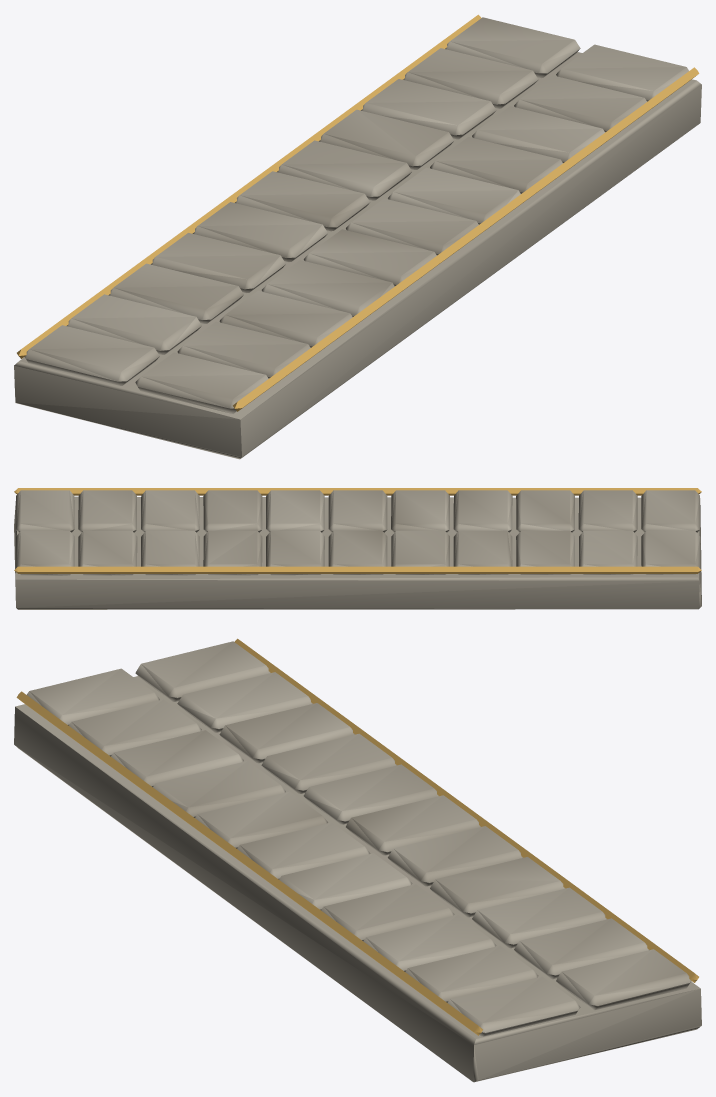
File: default_road_p30.glb
3 renders of one model, top to bottom at view 1: azimuth 30°, elevation 25°; view 2: azimuth 150°, elevation 25°; view 3: azimuth 270°, elevation 25°, orthographic. The views are drawn at different scales.
Visible parts, largest first — view 1: WoodBody, BrassTrim; view 2: WoodBody, BrassTrim; view 3: WoodBody, BrassTrim.
Boxes of the visible parts, x1,y1,x2,y2 form: WoodBody: (14, 17, 701, 459); BrassTrim: (17, 14, 699, 411); WoodBody: (14, 490, 701, 609); BrassTrim: (14, 488, 701, 573); WoodBody: (14, 641, 701, 1082); BrassTrim: (16, 638, 698, 1035).
Size of the model in its own units: 0.6626 by 0.045 by 0.4908.
